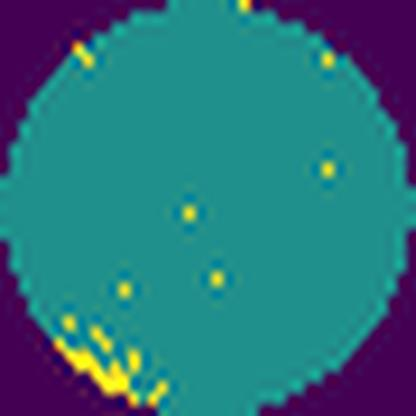Edge-Loc: (52, 310, 170, 406)
